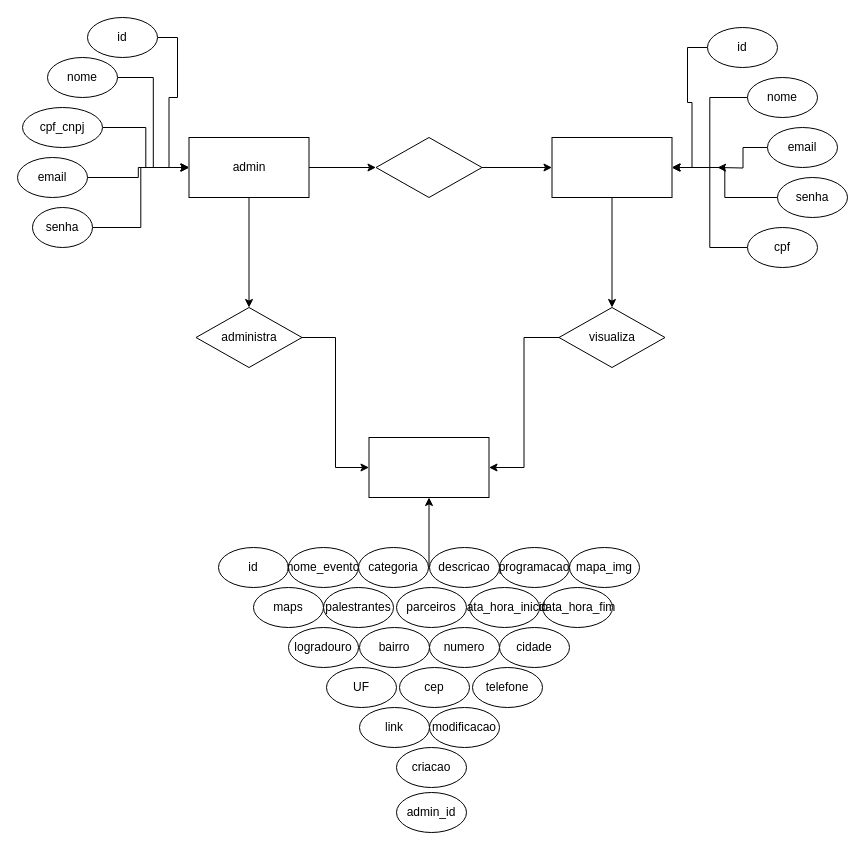
The diagram is 865 pixels wide and 850 high, and some of its shapes have lost their labels. The shapes that lost their labels are listed below. From the top down, each one's centre as x and y in pixels, then its label:
the point at 428,167: cadastra
the point at 611,167: usuario
the point at 428,467: evento
